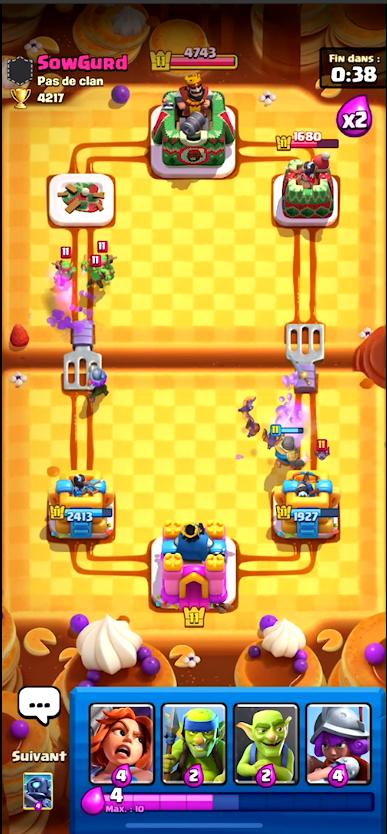bat: (259, 423, 279, 449), (237, 395, 256, 419), (316, 439, 332, 463), (243, 418, 262, 438)
chevalier: (273, 429, 304, 466)
gobelin_lances: (80, 252, 112, 288), (51, 247, 79, 282), (92, 242, 115, 268)
mousquetaire: (85, 364, 112, 402)
